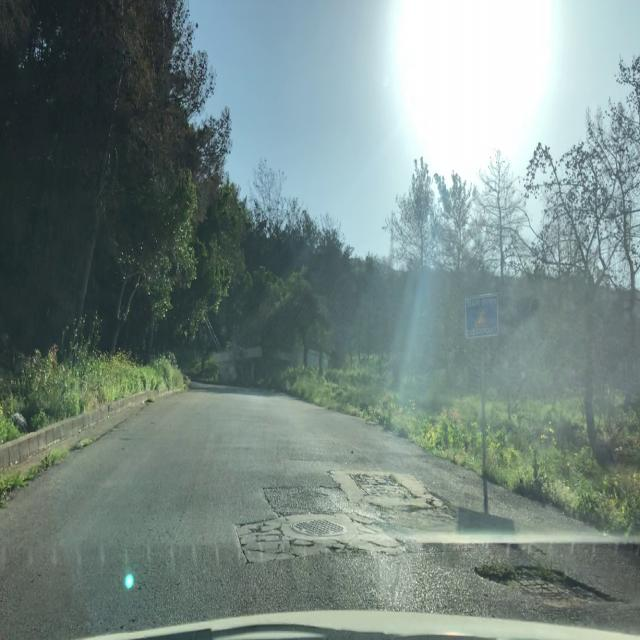Pothole: (469, 560, 620, 609)
